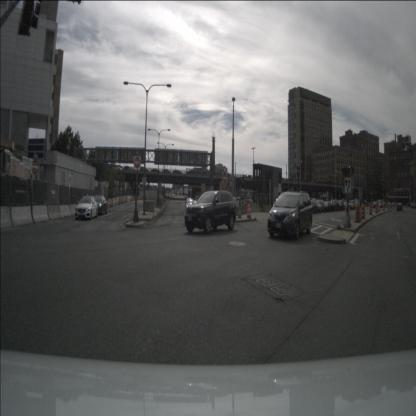movable_object-barrier: (9, 205, 34, 227), (31, 203, 50, 224), (0, 205, 14, 231), (46, 204, 62, 220), (60, 204, 72, 218), (143, 200, 155, 213), (70, 204, 82, 216), (236, 206, 246, 215), (245, 204, 254, 212), (254, 203, 261, 212), (120, 196, 122, 204)
movable_object-trafficcone: (343, 207, 352, 226), (353, 203, 361, 223), (360, 202, 366, 220), (357, 206, 363, 222), (246, 204, 252, 219), (369, 202, 373, 216), (382, 203, 386, 211), (375, 204, 378, 214), (111, 198, 114, 207), (118, 197, 121, 205), (387, 202, 390, 210), (378, 204, 380, 212), (122, 196, 124, 204)
vehicle-car: (184, 190, 237, 235), (267, 190, 313, 240), (75, 196, 98, 220), (90, 195, 108, 215), (307, 199, 318, 215), (316, 198, 326, 214), (330, 200, 340, 212), (323, 200, 332, 213), (347, 200, 356, 211), (336, 200, 345, 210), (342, 200, 349, 210), (372, 200, 378, 209), (378, 201, 385, 208), (397, 203, 402, 211), (411, 201, 415, 209)
